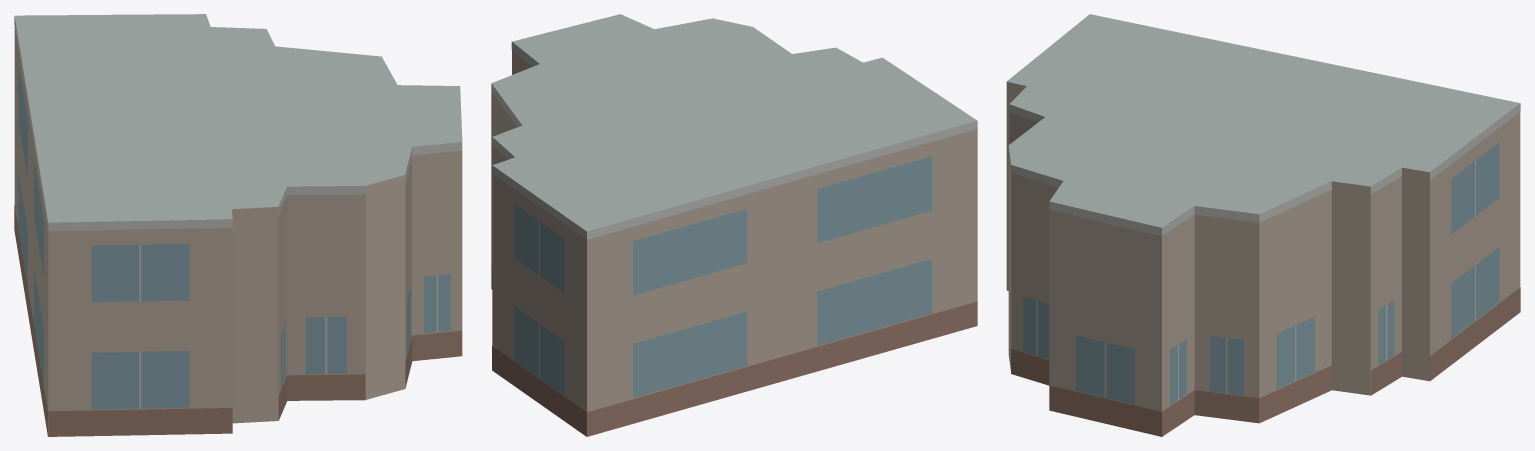
Rendered from survey-upis-33039903.glb.
3 renders of one model, left to right at view 1: azimuth 30°, elevation 25°; view 2: azimuth 150°, elevation 25°; view 3: azimuth 270°, elevation 25°, orthographic. The views are drawn at different scales.
Parts seen in each view (by area): view 1: survey-upis-33039903.tmp; view 2: survey-upis-33039903.tmp; view 3: survey-upis-33039903.tmp.
Boxes of the visible parts, box(x1,y1,x2,y2) form: survey-upis-33039903.tmp: box(14, 14, 462, 436); survey-upis-33039903.tmp: box(491, 14, 977, 436); survey-upis-33039903.tmp: box(1006, 14, 1520, 436).
Size of the model in its own units: 13.39 by 6.1 by 13.6.
